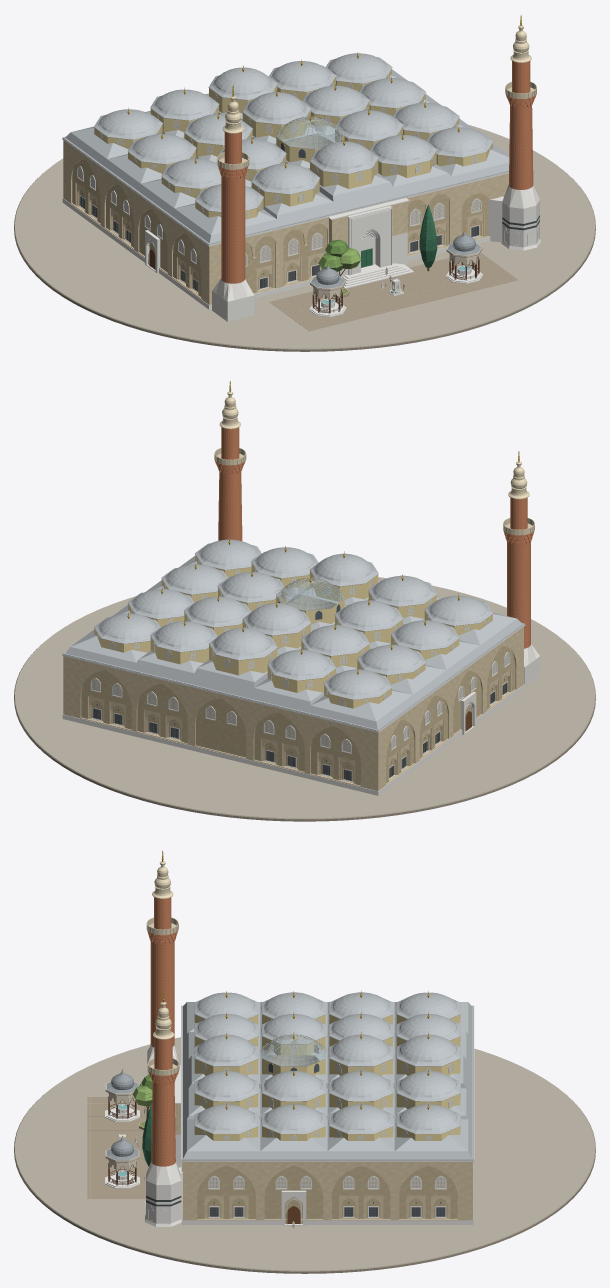
Rendered from ulu-cami_v31_sunum.glb.
The picture shows the model from 3 angles, top to bottom: view 1: azimuth 30°, elevation 25°; view 2: azimuth 150°, elevation 25°; view 3: azimuth 270°, elevation 25°; orthographic projection.
Parts seen in each view (by area): view 1: Zemin_Kaide, Kubbeler_19, Cati, Cephe_Kuzey, Cephe_Dogu, Minare_1, Zemin_Avlu_Tas, Minare_2, Pencere_Girintileri, Tac_Kapi, Sadirvan_Kubbe, Giris_Cikintili_Blok (+10 smaller); view 2: Zemin_Kaide, Kubbeler_19, Cephe_Guney, Cati, Cephe_Dogu, Pencere_Girintileri, Minare_2, Minare_1, Mermer_Bant, Sadirvan_Kubbe, Kasnak_Pencereleri, Silme_Ust (+2 smaller); view 3: Zemin_Kaide, Kubbeler_19, Cephe_Bati, Cati, Minare_1, Zemin_Avlu_Tas, Minare_2, Pencere_Girintileri, Sadirvan_Kubbe, Kasnak_Pencereleri, Mermer_Bant, Avlu_Sadirvan_Bati (+5 smaller).
Part boxes in pixels (left/top/right/bottom): Zemin_Kaide: left=14, top=124, right=595, bottom=351; Kubbeler_19: left=94, top=53, right=493, bottom=219; Cati: left=62, top=69, right=509, bottom=244; Cephe_Kuzey: left=208, top=173, right=508, bottom=304; Cephe_Dogu: left=64, top=141, right=208, bottom=304; Minare_1: left=488, top=14, right=540, bottom=250; Zemin_Avlu_Tas: left=269, top=252, right=517, bottom=331; Minare_2: left=212, top=85, right=254, bottom=321; Pencere_Girintileri: left=76, top=182, right=484, bottom=295; Tac_Kapi: left=342, top=206, right=413, bottom=288; Sadirvan_Kubbe: left=276, top=117, right=344, bottom=162; Giris_Cikintili_Blok: left=328, top=198, right=409, bottom=277; Zemin_Kaide: left=14, top=577, right=595, bottom=821; Kubbeler_19: left=94, top=539, right=493, bottom=708; Cephe_Guney: left=63, top=656, right=378, bottom=790; Cati: left=63, top=556, right=524, bottom=731; Cephe_Dogu: left=379, top=627, right=523, bottom=790; Pencere_Girintileri: left=87, top=669, right=511, bottom=783; Minare_2: left=503, top=451, right=540, bottom=686; Minare_1: left=214, top=381, right=246, bottom=541; Mermer_Bant: left=62, top=684, right=524, bottom=795; Sadirvan_Kubbe: left=276, top=578, right=344, bottom=624; Kasnak_Pencereleri: left=97, top=560, right=488, bottom=706; Silme_Ust: left=62, top=624, right=525, bottom=732; Zemin_Kaide: left=14, top=1037, right=595, bottom=1273; Kubbeler_19: left=194, top=992, right=460, bottom=1140; Cephe_Bati: left=183, top=1162, right=471, bottom=1223; Cati: left=181, top=1002, right=473, bottom=1160; Minare_1: left=145, top=991, right=182, bottom=1226; Zemin_Avlu_Tas: left=87, top=1097, right=150, bottom=1198; Minare_2: left=146, top=850, right=178, bottom=1075; Pencere_Girintileri: left=204, top=1195, right=450, bottom=1218; Sadirvan_Kubbe: left=261, top=1035, right=325, bottom=1075; Kasnak_Pencereleri: left=201, top=1014, right=460, bottom=1140; Mermer_Bant: left=181, top=1162, right=473, bottom=1224; Avlu_Sadirvan_Bati: left=105, top=1136, right=139, bottom=1188.
Size of the model in its own units: 111 by 48.52 by 111.
60 materials, 14 textured.
